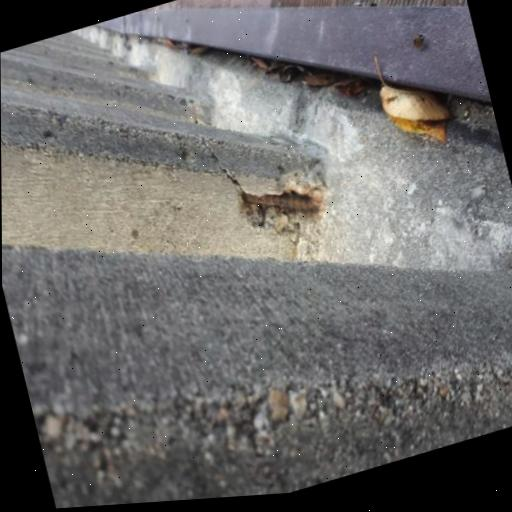exposed_rebar: (241, 187, 323, 215)
